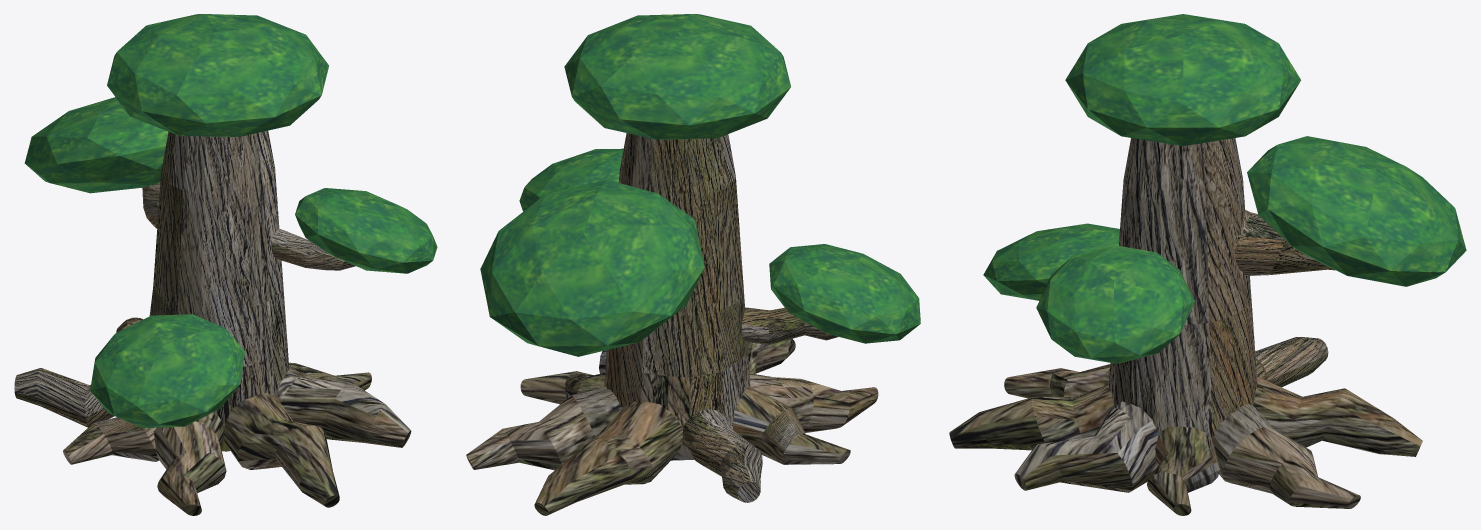
File: hubTree.glb
3 views of the same model, side by side, from view 1: azimuth 30°, elevation 25°; view 2: azimuth 150°, elevation 25°; view 3: azimuth 270°, elevation 25° (orthographic). The views are drawn at different scales.
Parts seen in each view (by area): view 1: Cylinder, Icosphere, Icosphere.003, Icosphere.001, Icosphere.002, Cylinder.003; view 2: Cylinder, Icosphere.001, Icosphere, Icosphere.003, Icosphere.002, Cylinder.004; view 3: Cylinder, Icosphere, Icosphere.001, Icosphere.002, Icosphere.003.
Part boxes in pixels (box(x1,y1,x2,y2)): Cylinder: box(14, 130, 411, 515); Icosphere: box(107, 14, 328, 137); Icosphere.003: box(90, 314, 244, 428); Icosphere.001: box(24, 97, 168, 193); Icosphere.002: box(295, 188, 437, 273); Cylinder.003: box(271, 228, 355, 270); Cylinder: box(466, 133, 878, 515); Icosphere.001: box(480, 179, 704, 356); Icosphere: box(564, 14, 790, 139); Icosphere.003: box(769, 244, 920, 343); Icosphere.002: box(519, 148, 623, 211); Cylinder.004: box(742, 307, 838, 344); Cylinder: box(949, 138, 1422, 515); Icosphere: box(1065, 14, 1300, 146); Icosphere.001: box(1247, 136, 1466, 286); Icosphere.002: box(1036, 245, 1194, 363); Icosphere.003: box(983, 223, 1119, 300).
Bounding box in the file's own units: 427 × 481 × 531.
2 materials, 2 textured.
